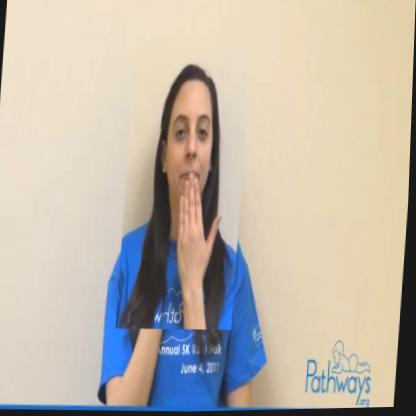ThankYou: (118, 42, 252, 333)
